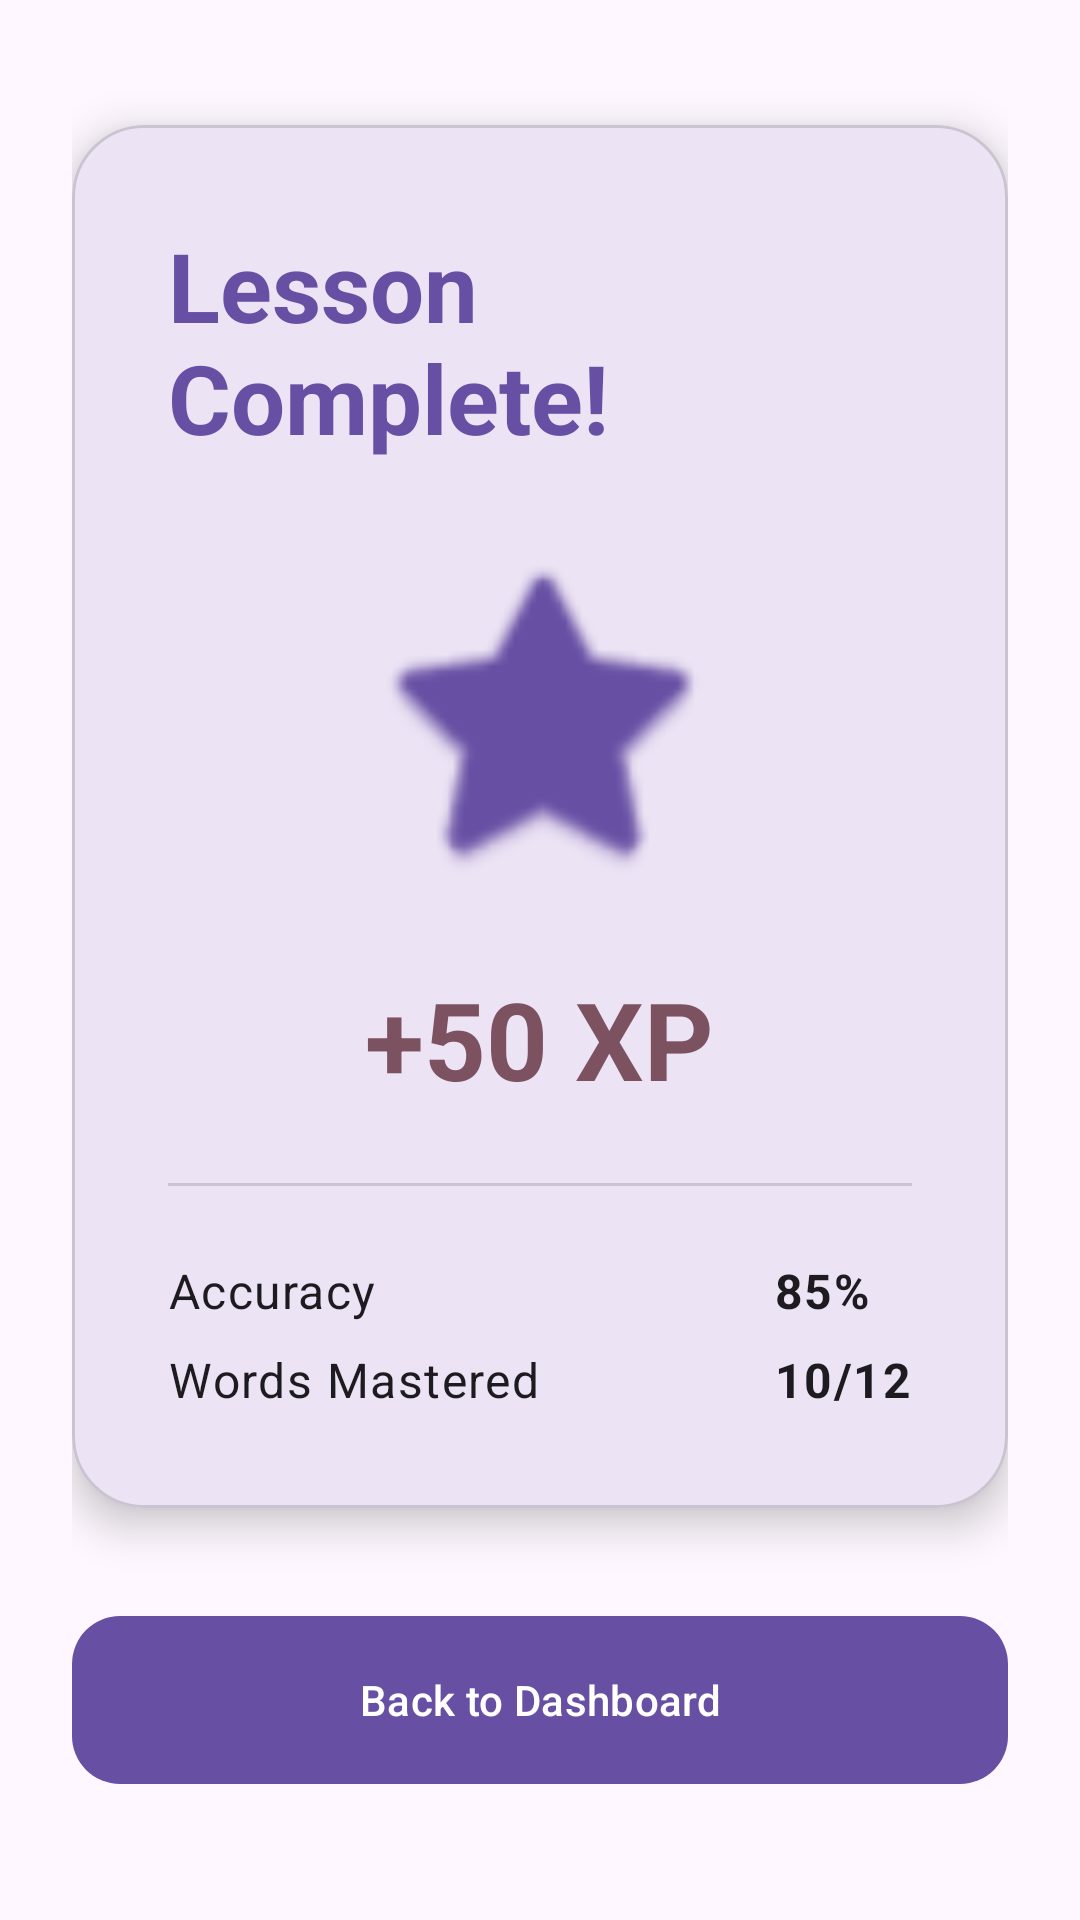

Where to tap for icons on this 1080px x 1920px app screen, as point (x, y):
star on: point (543, 716)
